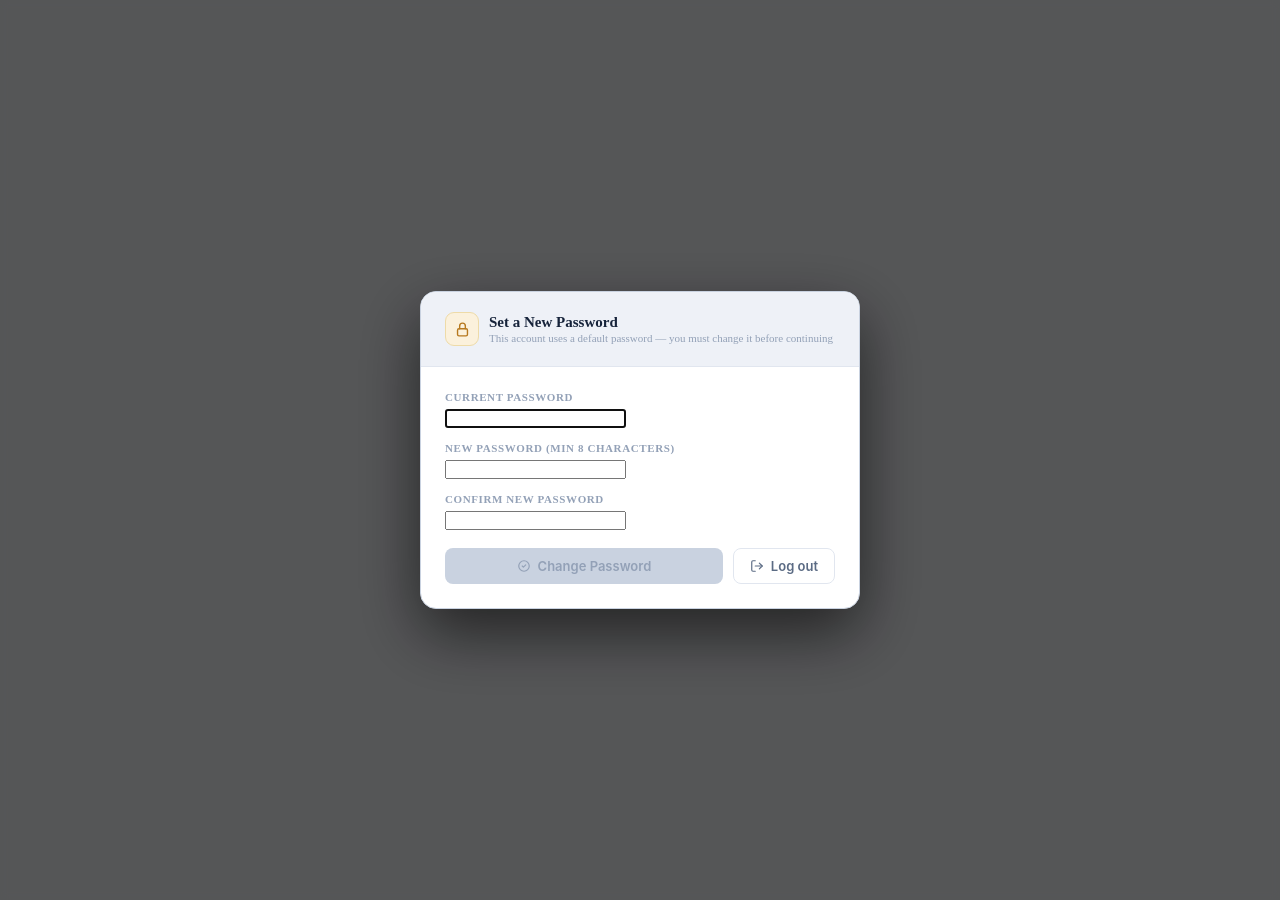
Test: ForceChangePasswordModal › surfaces a backend rejection (wrong current password)
The width and height of the screenshot is (1280, 900).
Type "wrong" into the password field below "Current Password" at (536,418), box [445,409,626,428]
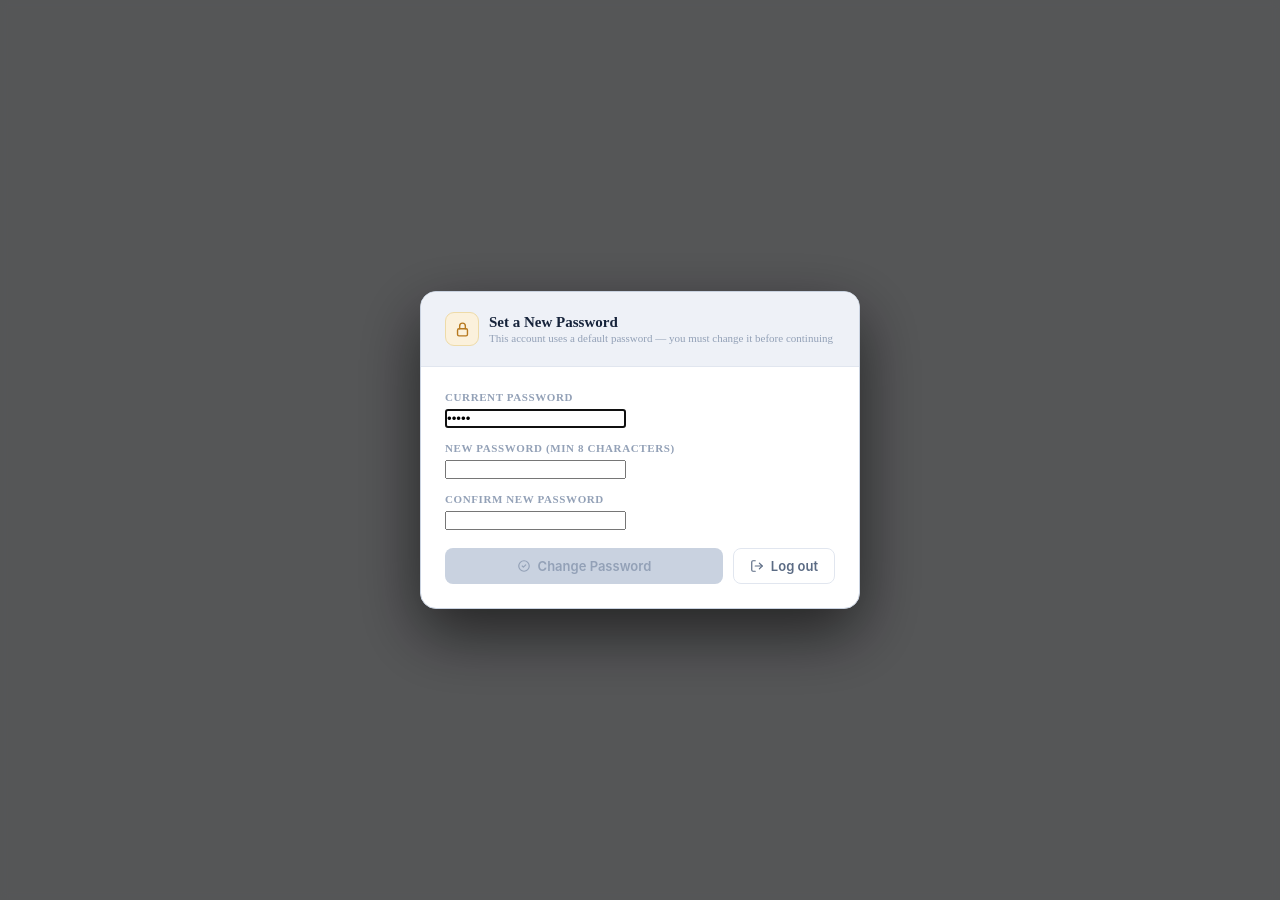
Type "new-password-1" into the password field below "New Password (min 8 characters)" at (536,470), box [445,460,626,479]
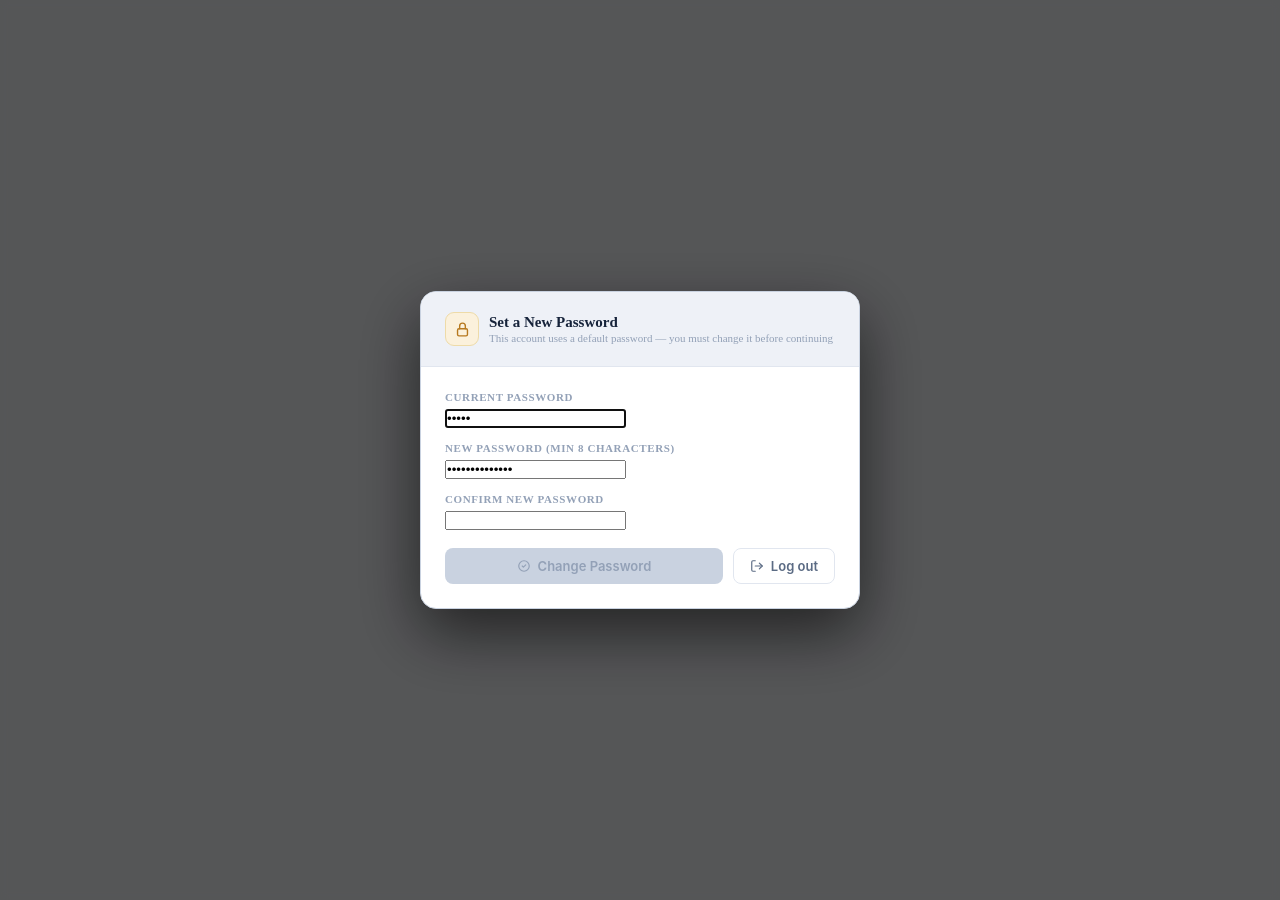
Type "new-password-1" into the password field below "Confirm New Password" at (536,520), box [445,511,626,530]
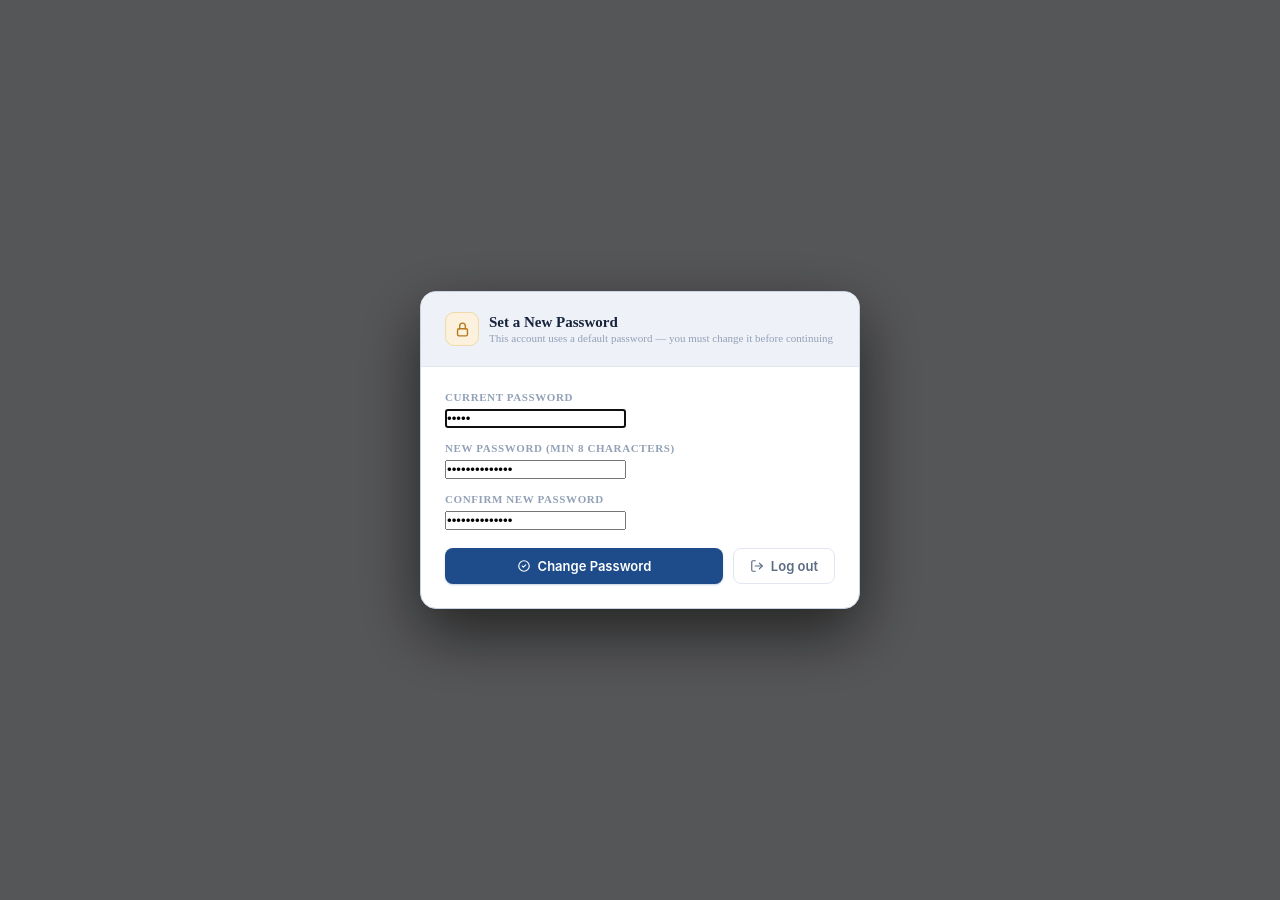
Click the button "Change Password" at (584,566), box [445,548,723,584]
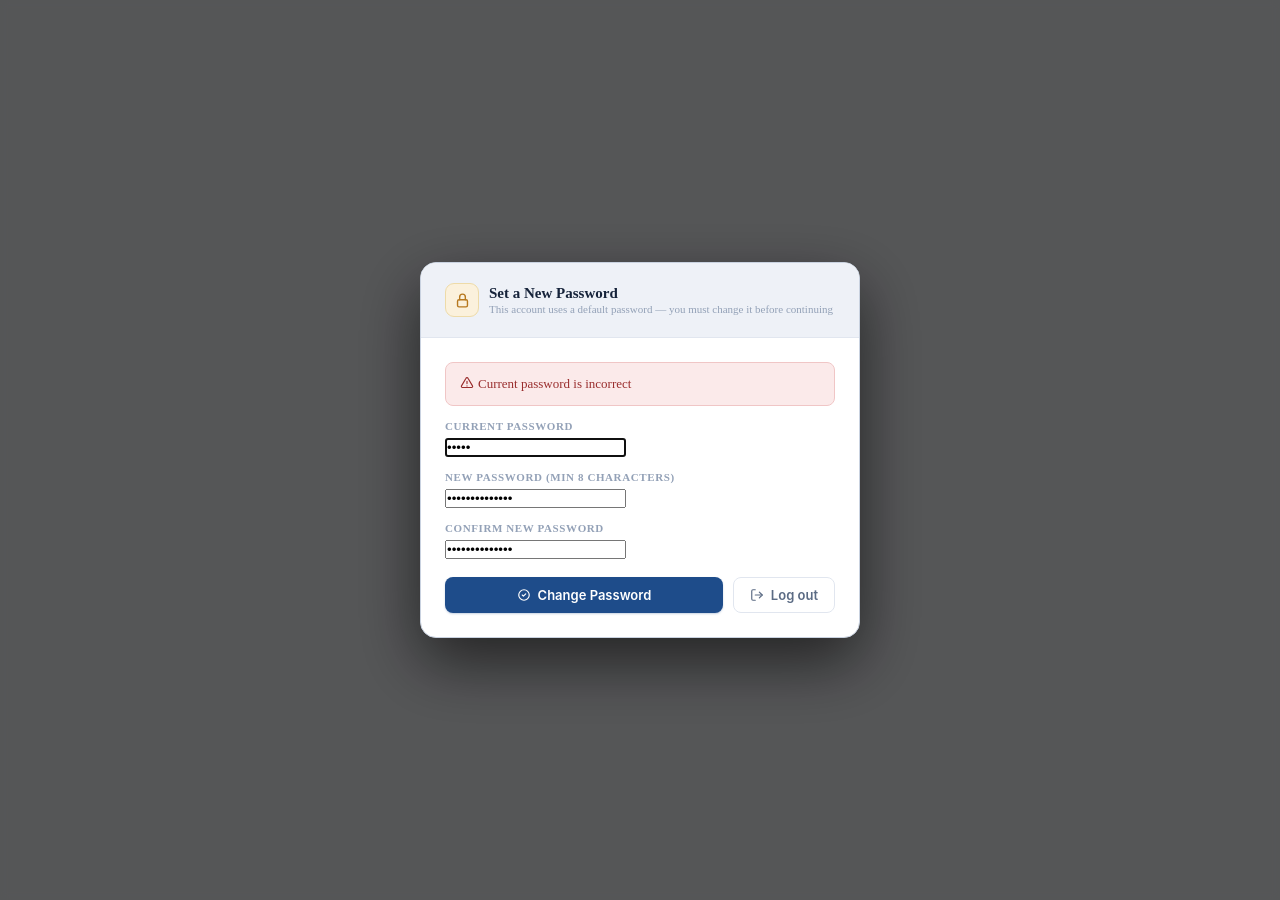
Now the text "Current password is incorrect" is shown, box [445,362,835,406]
